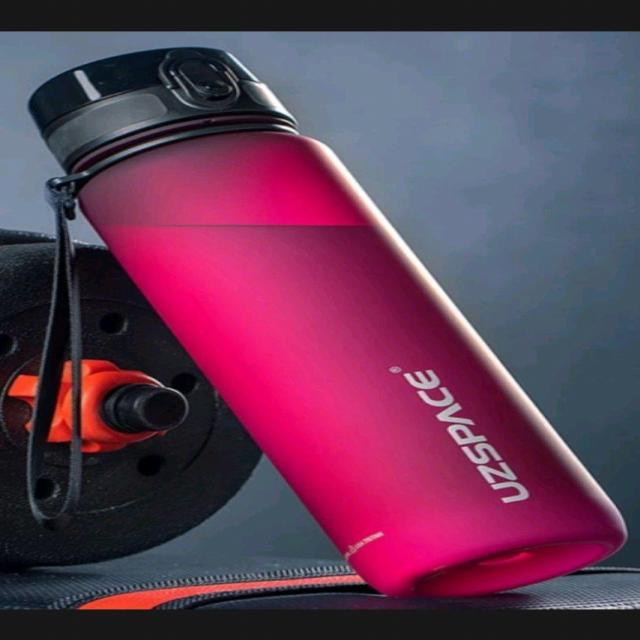gym bottle: (28, 44, 635, 600)
